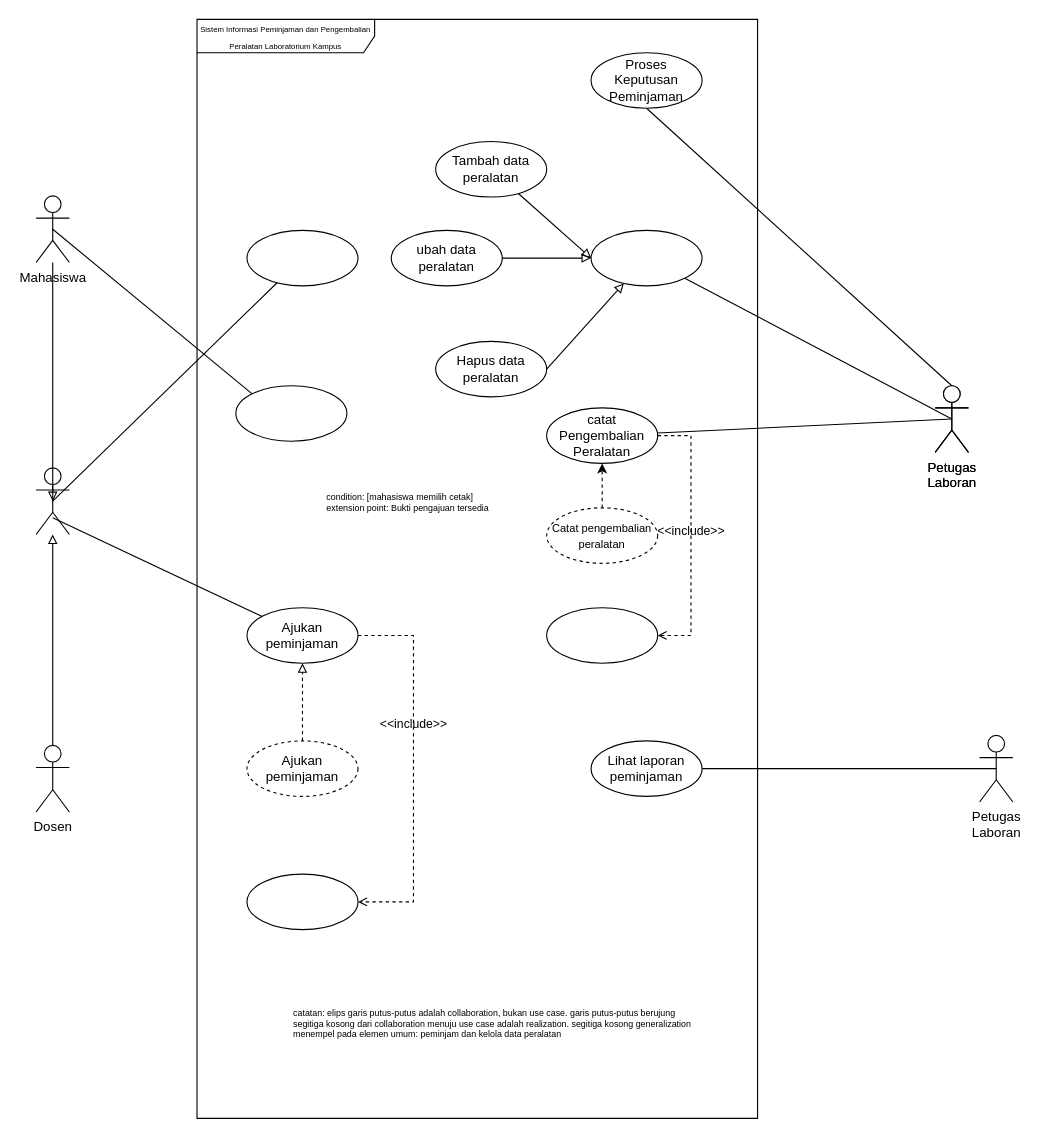
Image size: 1039x1138. Some labels were removed from this diagram. Here are the shapes that lost their labels. From the top down, the centre of each, then its label:
point 302,257: Lihat ketersediaan peralatan
point 646,257: Kelola data peralatan
point 291,413: Cetak bukti pengajuan
point 52,500: Peminjam
point 602,635: periksa kondisi peralatan
point 302,901: periksa ketersediaan
